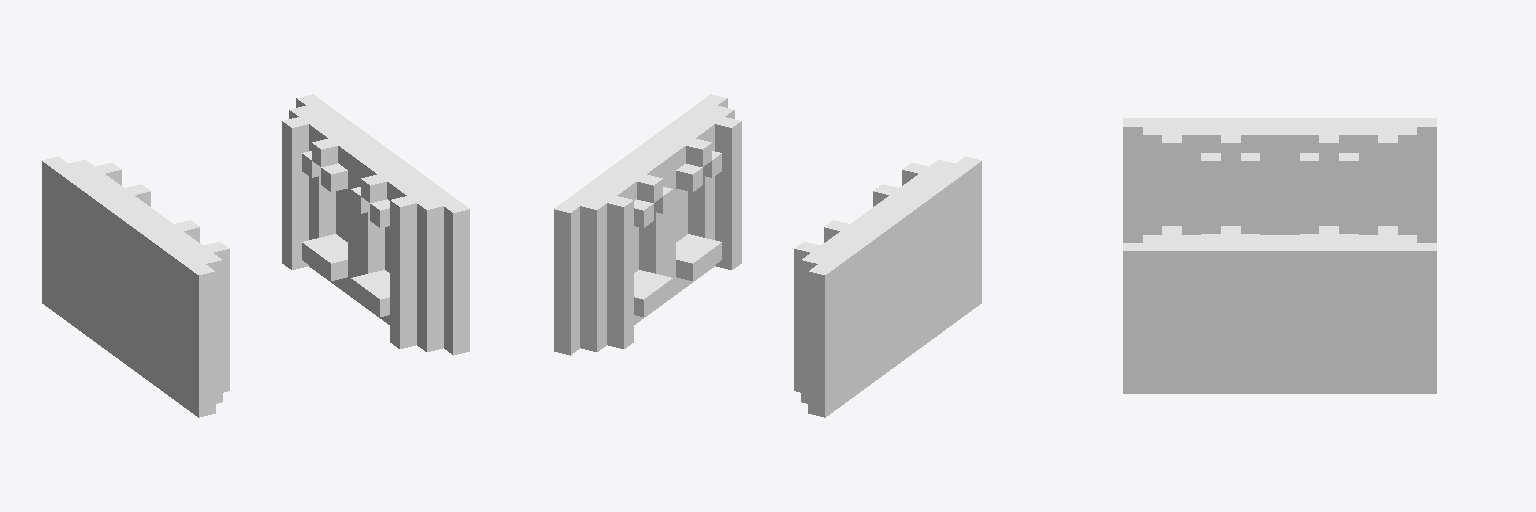
Rendered from towar-35.obj.
3 renders of one model, left to right at view 1: azimuth 30°, elevation 25°; view 2: azimuth 150°, elevation 25°; view 3: azimuth 270°, elevation 25°, orthographic.
Parts seen in each view (by area): view 1: towar-35; view 2: towar-35; view 3: towar-35.
Boxes of the visible parts, x1=… form: towar-35: x1=42, y1=94, x2=469, y2=417; towar-35: x1=554, y1=94, x2=981, y2=417; towar-35: x1=1123, y1=118, x2=1436, y2=393.
Size of the model in its own units: 16 by 8 by 16.